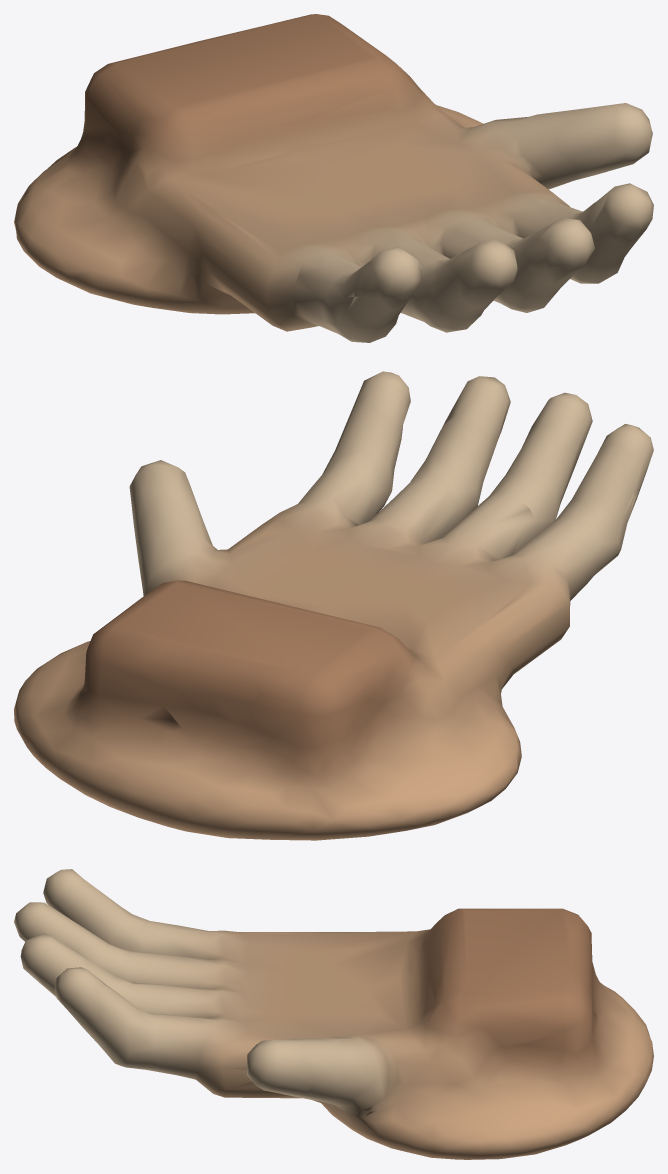
File: mao_colosso.glb
The picture shows the model from 3 angles, top to bottom: view 1: azimuth 30°, elevation 25°; view 2: azimuth 150°, elevation 25°; view 3: azimuth 270°, elevation 25°; orthographic projection. The views are drawn at different scales.
Visible parts, largest first — view 1: Mao; view 2: Mao; view 3: Mao.
Part boxes in pixels (box(x1,y1,x2,y2)): Mao: box(14, 14, 653, 342); Mao: box(14, 371, 653, 840); Mao: box(14, 869, 653, 1159).
Size of the model in its own units: 8.3 by 3.52 by 11.17.
